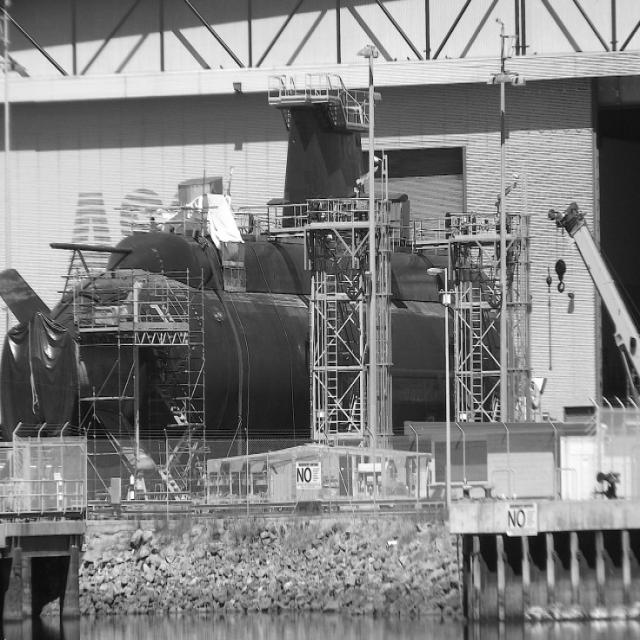submarine: (6, 95, 499, 478)
